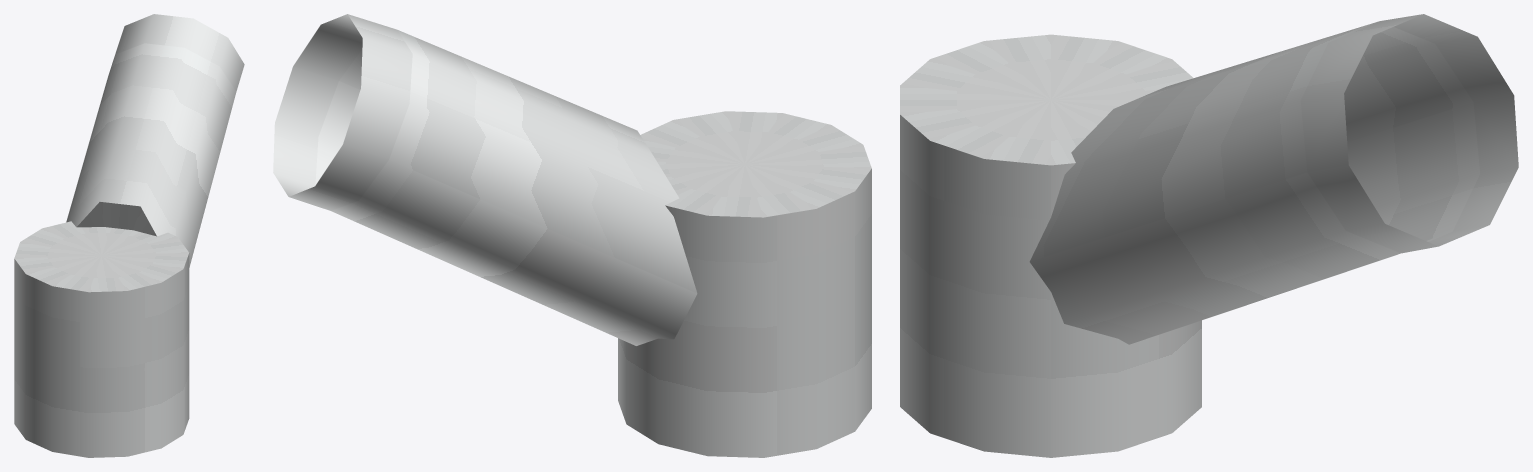
Rendered from nycsignalarm_diagonal4_c1_pedestal.obj.
The picture shows the model from 3 angles, left to right: view 1: azimuth 30°, elevation 25°; view 2: azimuth 150°, elevation 25°; view 3: azimuth 270°, elevation 25°; orthographic projection. The views are drawn at different scales.
Visible parts, largest first — view 1: nycsignalarm_diagonal4_c1_pedestal; view 2: nycsignalarm_diagonal4_c1_pedestal; view 3: nycsignalarm_diagonal4_c1_pedestal.
Part boxes in pixels (<box>): nycsignalarm_diagonal4_c1_pedestal: <box>14,14,244,457</box>; nycsignalarm_diagonal4_c1_pedestal: <box>273,14,871,457</box>; nycsignalarm_diagonal4_c1_pedestal: <box>900,14,1518,457</box>.
Size of the model in its own units: 0.892 by 0.8134 by 0.8864.
